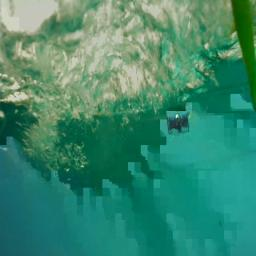front: (167, 111, 192, 134), (166, 113, 190, 135)
